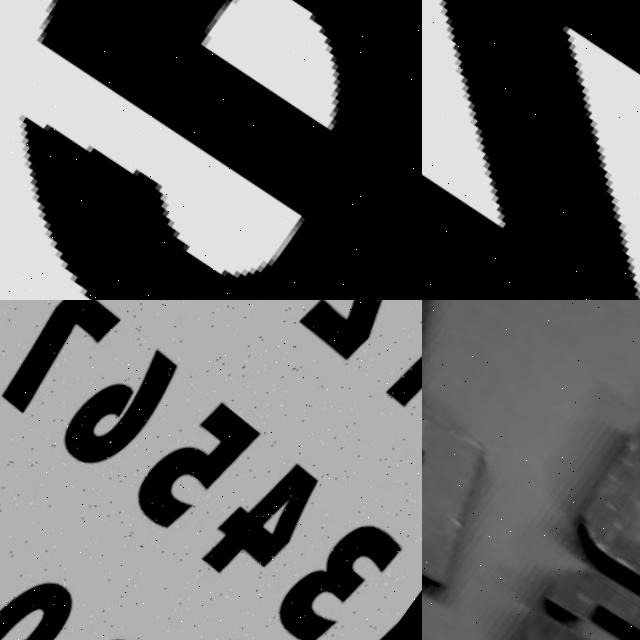0: (0, 539, 109, 640)
3: (246, 477, 422, 640)
4: (169, 425, 368, 640)
5: (101, 368, 291, 579)
6: (33, 305, 223, 515)
7: (0, 300, 142, 453)
9: (0, 605, 174, 640)
E: (422, 337, 525, 621)
G: (448, 523, 640, 640)
U: (529, 386, 640, 640)
Z: (422, 0, 640, 300)
